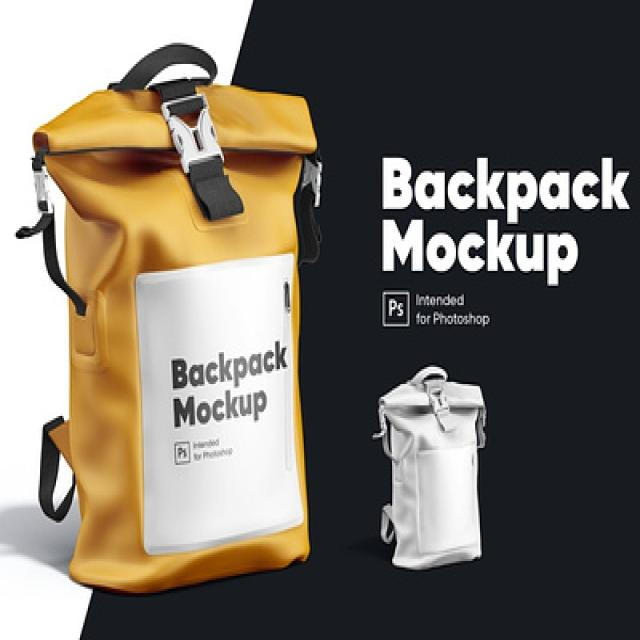backpack: (16, 42, 325, 594), (365, 360, 499, 584)
